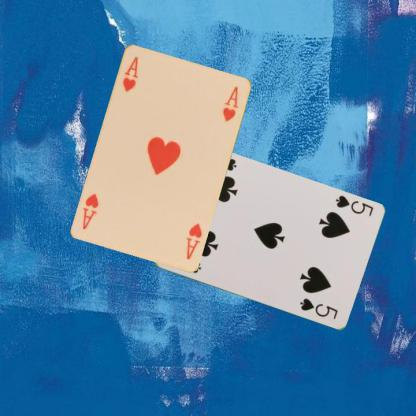5s: (332, 192, 375, 218)
Ah: (184, 220, 203, 261), (120, 54, 139, 92)
